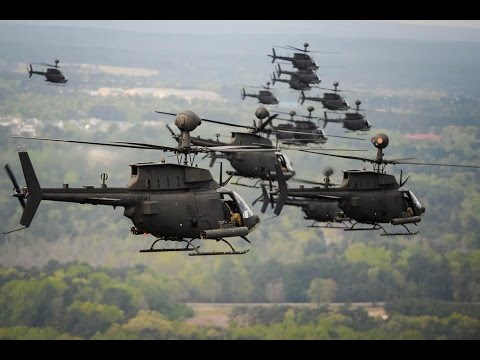MilitaryHelicopter: (19, 161, 259, 256), (275, 165, 434, 239), (27, 61, 83, 93), (266, 45, 325, 66), (236, 86, 286, 108)
